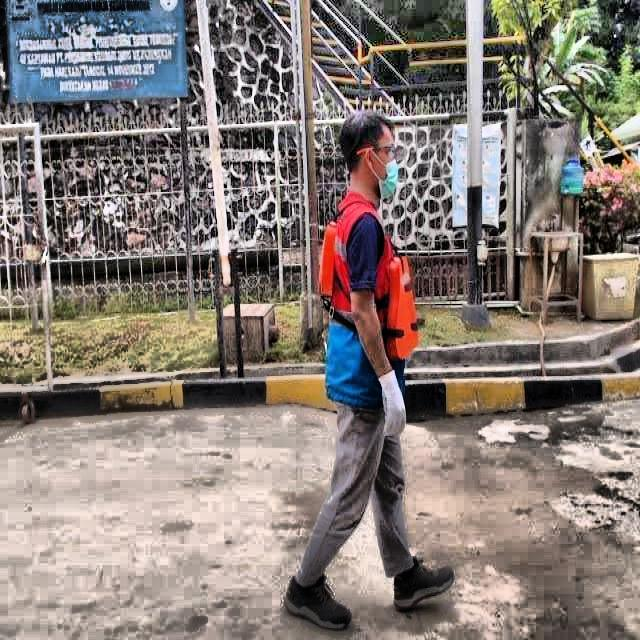safety_jacket: (319, 190, 424, 410)
